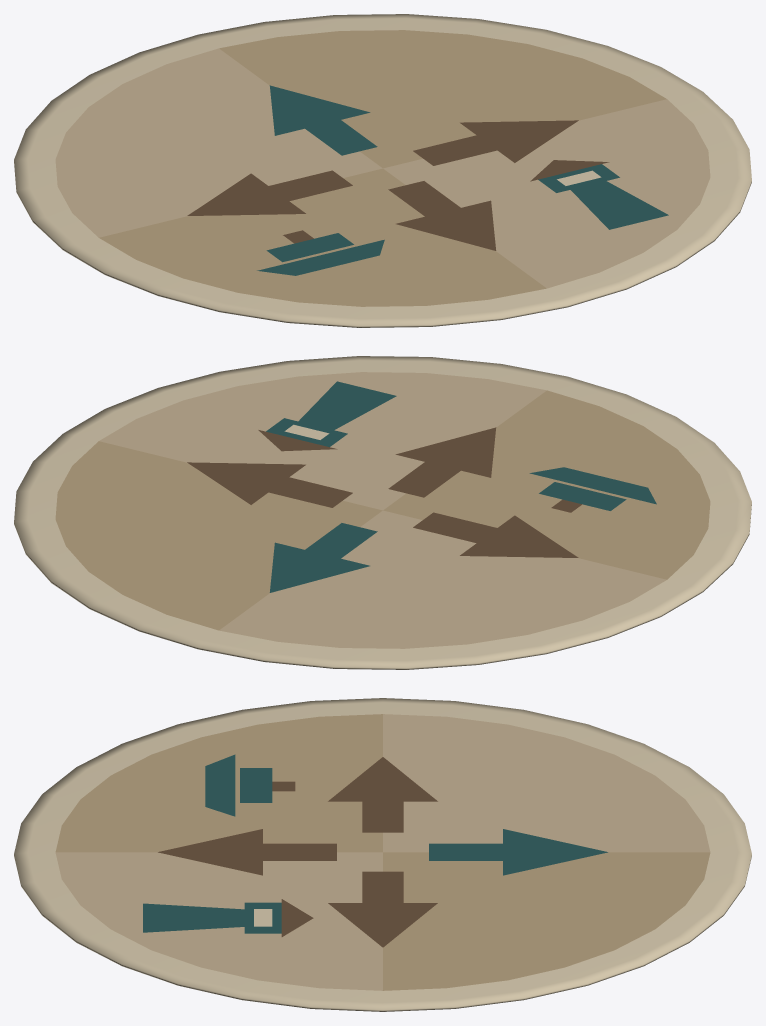
Rendered from lookout_compass_disc.glb.
The picture shows the model from 3 angles, top to bottom: view 1: azimuth 30°, elevation 25°; view 2: azimuth 150°, elevation 25°; view 3: azimuth 270°, elevation 25°; orthographic projection.
Visible parts, largest first — view 1: lookout_compass_disc; view 2: lookout_compass_disc; view 3: lookout_compass_disc.
Part boxes in pixels (box(x1,y1,x2,y2)): lookout_compass_disc: box(14, 14, 751, 327); lookout_compass_disc: box(14, 356, 751, 669); lookout_compass_disc: box(14, 698, 751, 1011).
Bounding box in the file's own units: 1.6 × 0.0145 × 1.6.
